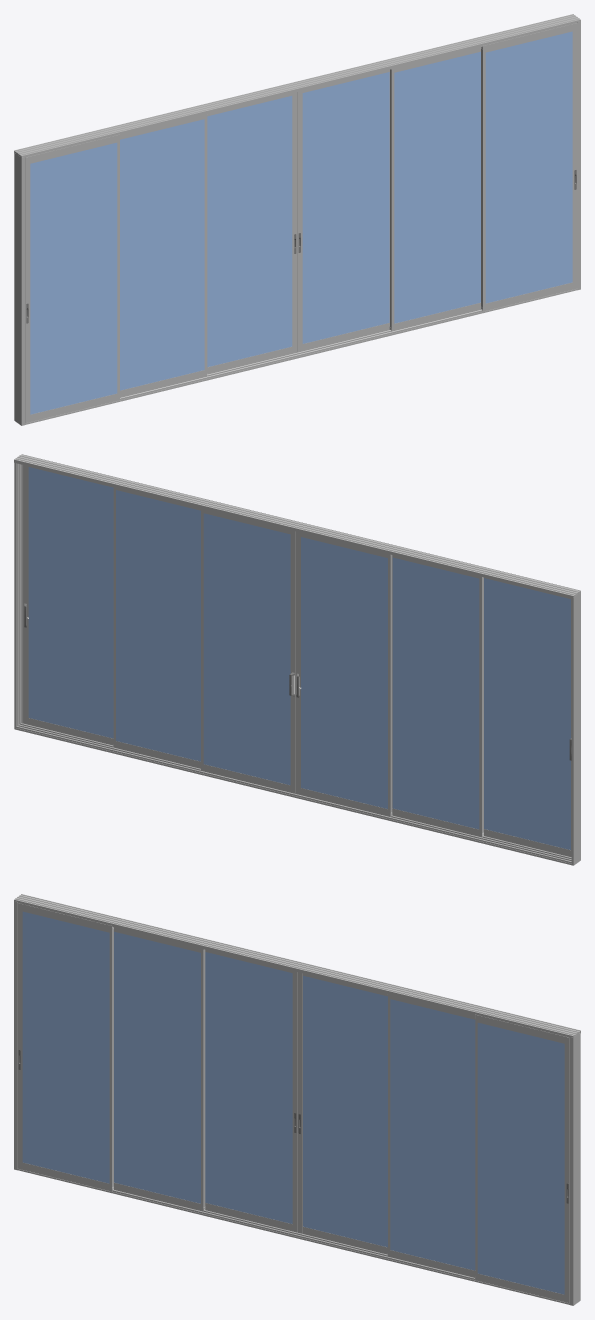
File: Sliding Glass (6).glb
3 renders of one model, top to bottom at view 1: azimuth 30°, elevation 25°; view 2: azimuth 150°, elevation 25°; view 3: azimuth 330°, elevation 25°, orthographic.
Visible parts, largest first — view 1: 3DGeom-25 (×6), 3DGeom-3, 3DGeom-37 (×4), 3DGeom-22 (×8), 3DGeom-7 (×4), 3DGeom-4 (×2), 3DGeom-1, 3DGeom-2; view 2: 3DGeom-25 (×6), 3DGeom-3, 3DGeom-4 (×2), 3DGeom-37 (×3), 3DGeom-7 (×4), 3DGeom-22 (×6), 3DGeom-1, 3DGeom-2; view 3: 3DGeom-25 (×6), 3DGeom-3, 3DGeom-37 (×4), 3DGeom-22 (×8), 3DGeom-7 (×4), 3DGeom-4 (×2), 3DGeom-1, 3DGeom-2.
Part boxes in pixels (<box>): 3DGeom-25 (×6): <box>30,31,572,414</box>; 3DGeom-3: <box>14,14,580,158</box>; 3DGeom-37 (×4): <box>25,23,577,423</box>; 3DGeom-22 (×8): <box>30,24,572,421</box>; 3DGeom-7 (×4): <box>117,45,485,400</box>; 3DGeom-4 (×2): <box>14,21,580,425</box>; 3DGeom-1: <box>22,288,578,425</box>; 3DGeom-2: <box>120,310,481,398</box>; 3DGeom-25 (×6): <box>28,467,570,849</box>; 3DGeom-3: <box>14,454,580,598</box>; 3DGeom-4 (×2): <box>14,462,580,865</box>; 3DGeom-37 (×3): <box>23,465,300,794</box>; 3DGeom-7 (×4): <box>113,487,483,837</box>; 3DGeom-22 (×6): <box>28,718,570,856</box>; 3DGeom-1: <box>16,723,571,865</box>; 3DGeom-2: <box>17,723,571,861</box>; 3DGeom-25 (×6): <box>22,911,564,1294</box>; 3DGeom-3: <box>14,894,580,1037</box>; 3DGeom-37 (×4): <box>17,903,569,1303</box>; 3DGeom-22 (×8): <box>22,904,564,1301</box>; 3DGeom-7 (×4): <box>109,925,477,1280</box>; 3DGeom-4 (×2): <box>14,901,580,1305</box>; 3DGeom-1: <box>15,1168,571,1304</box>; 3DGeom-2: <box>113,1190,474,1278</box>.
Size of the model in its own units: 5.76 by 2.65 by 0.1389.
